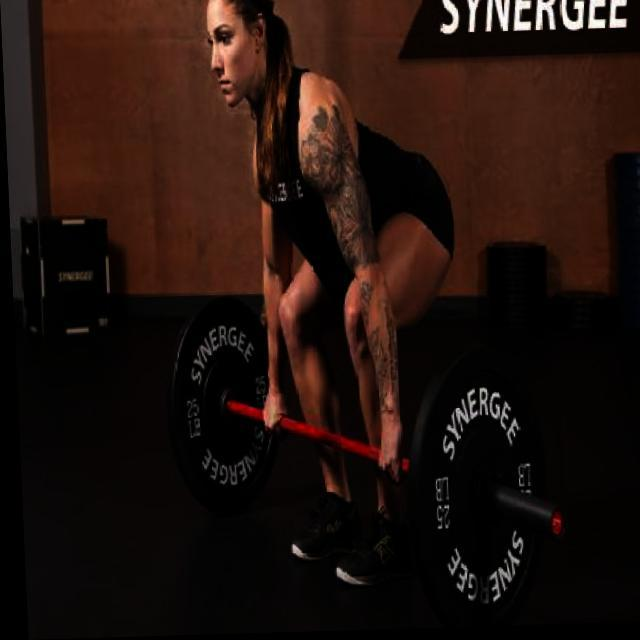barbell: (398, 345, 567, 632)
